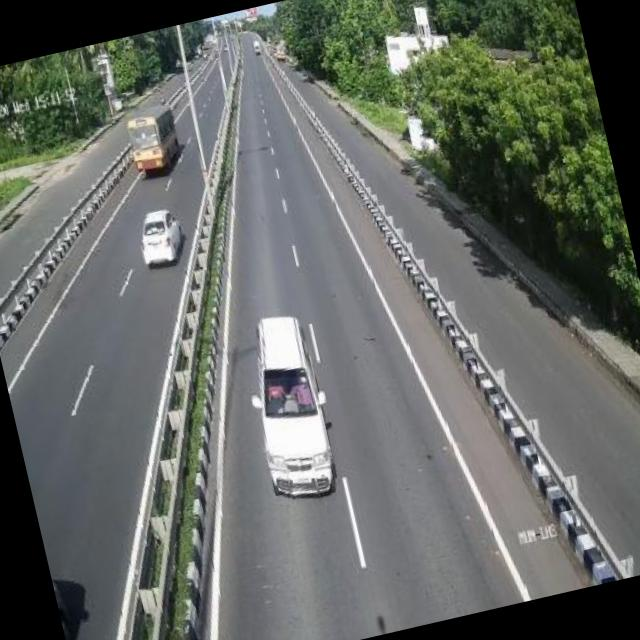car: (138, 202, 189, 273)
